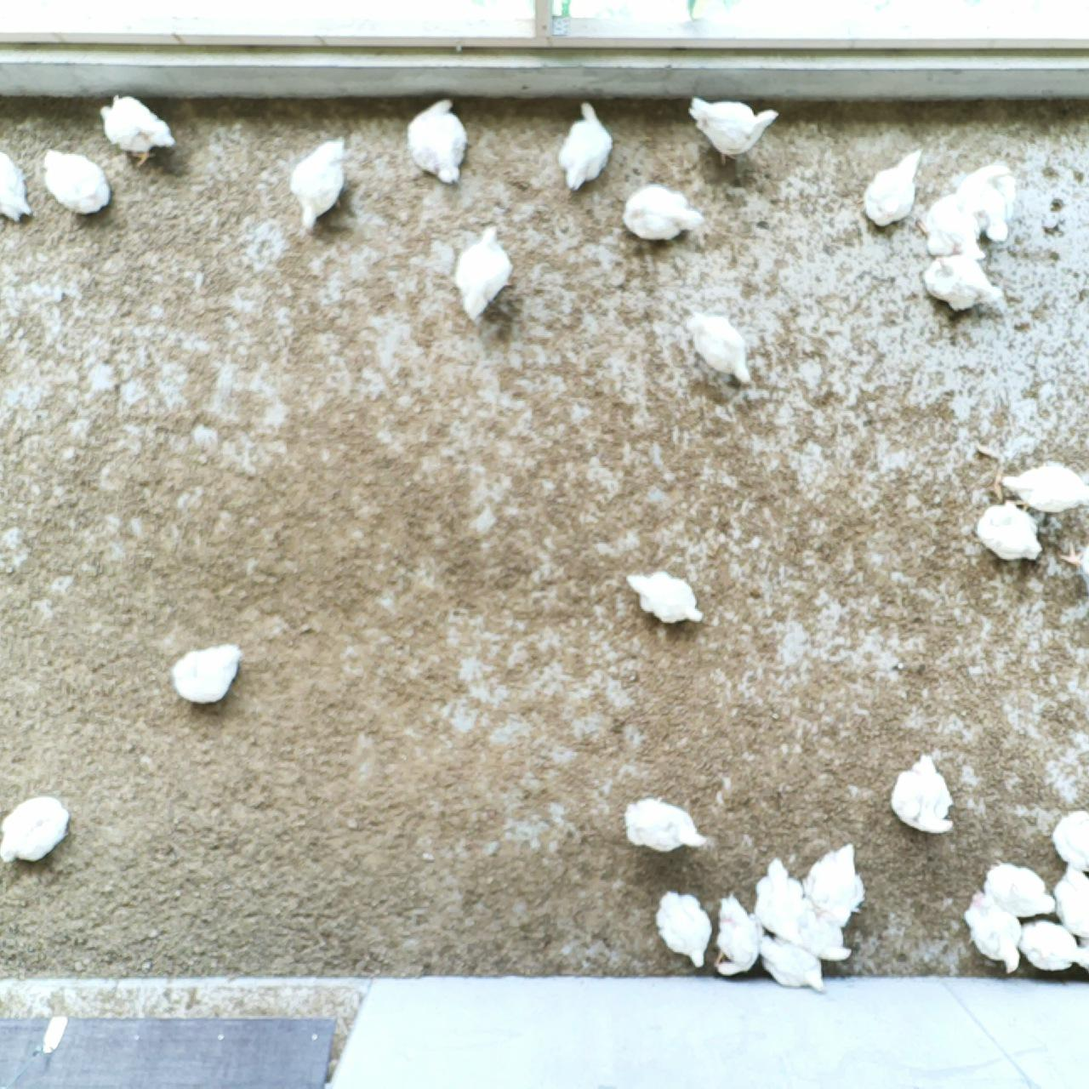chicken: (685, 94, 782, 166), (287, 133, 354, 235), (96, 93, 179, 169), (680, 307, 755, 386), (890, 751, 960, 835), (36, 144, 114, 218), (454, 223, 511, 324), (916, 182, 986, 264), (618, 564, 706, 629), (861, 143, 926, 229), (406, 95, 468, 184), (618, 795, 713, 853), (925, 249, 1005, 317), (962, 893, 1028, 974), (653, 889, 716, 973), (557, 97, 612, 190), (1009, 917, 1089, 979), (962, 158, 1017, 248), (0, 794, 69, 865), (710, 893, 766, 980), (622, 182, 703, 241), (1001, 462, 1089, 514), (751, 932, 828, 991), (172, 644, 244, 707), (804, 847, 861, 926), (981, 861, 1055, 921), (978, 505, 1049, 567), (758, 857, 807, 942), (793, 895, 850, 968), (1045, 859, 1089, 948), (0, 133, 32, 228), (1052, 807, 1089, 873), (1059, 541, 1089, 600)
